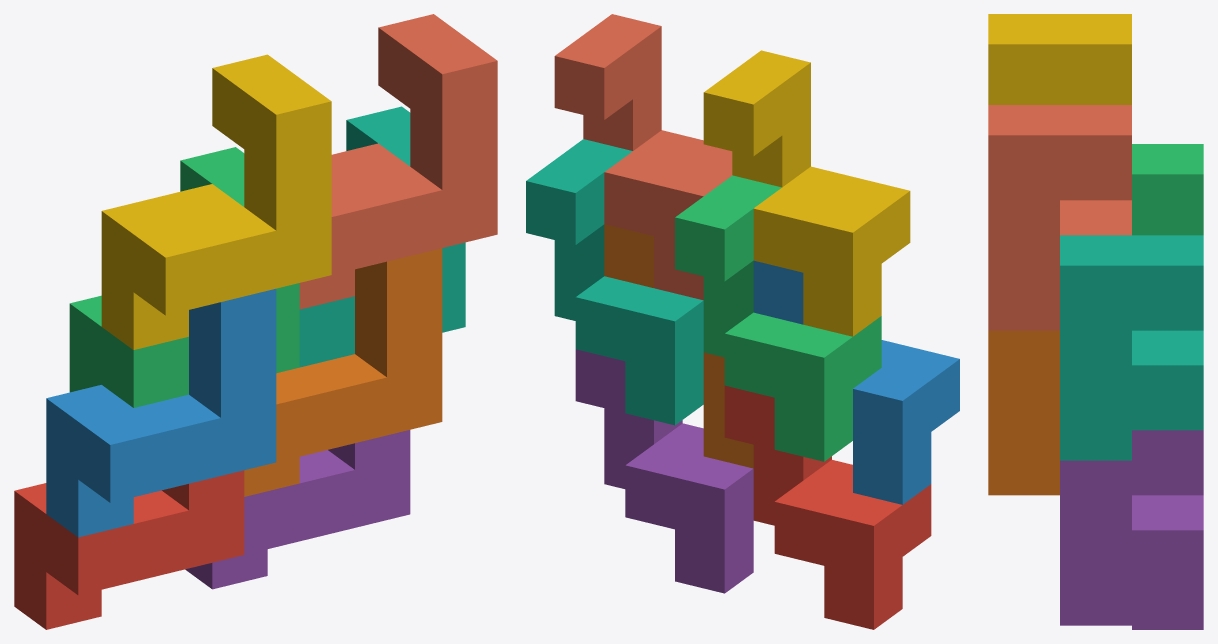
The model's file is tiling.obj.
The picture shows the model from 3 angles, left to right: view 1: azimuth 30°, elevation 25°; view 2: azimuth 150°, elevation 25°; view 3: azimuth 270°, elevation 25°; orthographic projection. The views are drawn at different scales.
Visible parts, largest first — view 1: copy_1_domain_4, copy_1_domain_2, copy_1_domain_8, copy_1_domain_6, copy_1_domain_1, copy_1_domain_5, copy_1_domain_3, copy_1_domain_7; view 2: copy_1_domain_4, copy_1_domain_3, copy_1_domain_7, copy_1_domain_8, copy_1_domain_1, copy_1_domain_5, copy_1_domain_2, copy_1_domain_6; view 3: copy_1_domain_7, copy_1_domain_5, copy_1_domain_8, copy_1_domain_4, copy_1_domain_6, copy_1_domain_3.
Boxes of the visible parts, x1,y1,x2,y2 form: copy_1_domain_4: (101, 54, 331, 349); copy_1_domain_2: (46, 288, 276, 537); copy_1_domain_8: (299, 14, 497, 309); copy_1_domain_6: (244, 248, 442, 496); copy_1_domain_1: (14, 470, 244, 629); copy_1_domain_5: (185, 430, 410, 589); copy_1_domain_3: (69, 147, 299, 407); copy_1_domain_7: (299, 106, 465, 367); copy_1_domain_4: (703, 50, 910, 336); copy_1_domain_3: (675, 175, 881, 461); copy_1_domain_7: (526, 139, 703, 425); copy_1_domain_8: (554, 14, 732, 300); copy_1_domain_1: (724, 385, 931, 629); copy_1_domain_5: (575, 349, 753, 593); copy_1_domain_2: (753, 260, 959, 504); copy_1_domain_6: (604, 224, 753, 468); copy_1_domain_7: (1060, 235, 1203, 460); copy_1_domain_5: (1060, 430, 1203, 629); copy_1_domain_8: (988, 105, 1131, 330); copy_1_domain_4: (988, 14, 1131, 104); copy_1_domain_6: (988, 330, 1059, 495); copy_1_domain_3: (1132, 144, 1203, 235).
Bounding box in the file's own units: 7 × 9 × 3.
